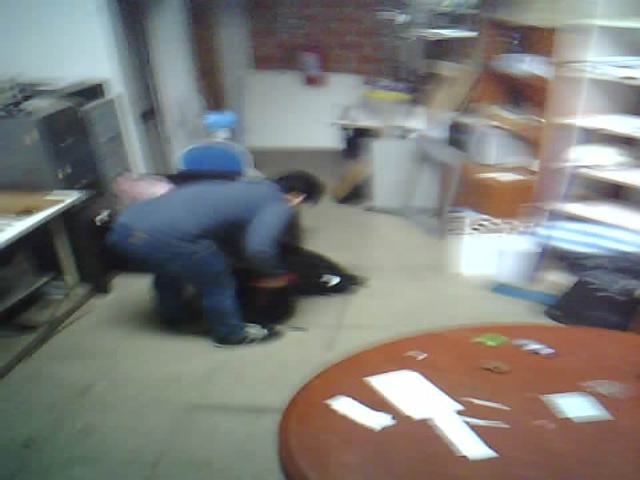person: (95, 132, 350, 362)
